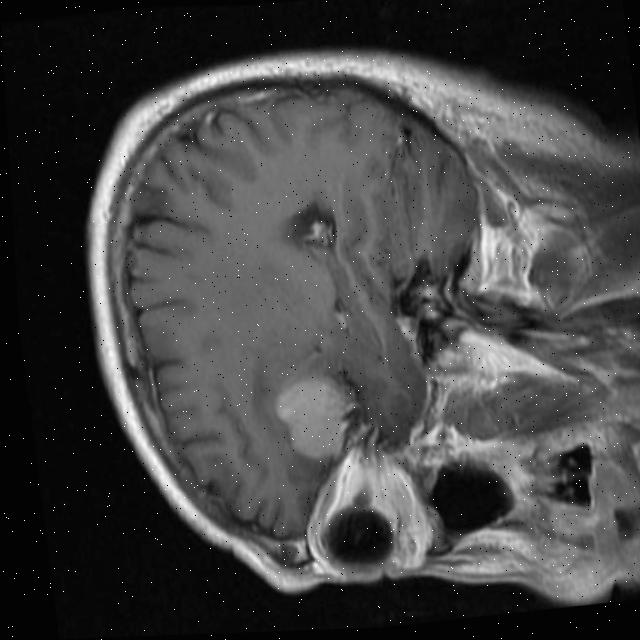Meningioma: (268, 370, 366, 466)
